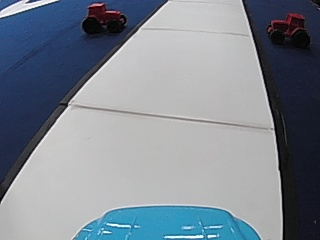tractor: (266, 10, 310, 47), (80, 1, 127, 35)
